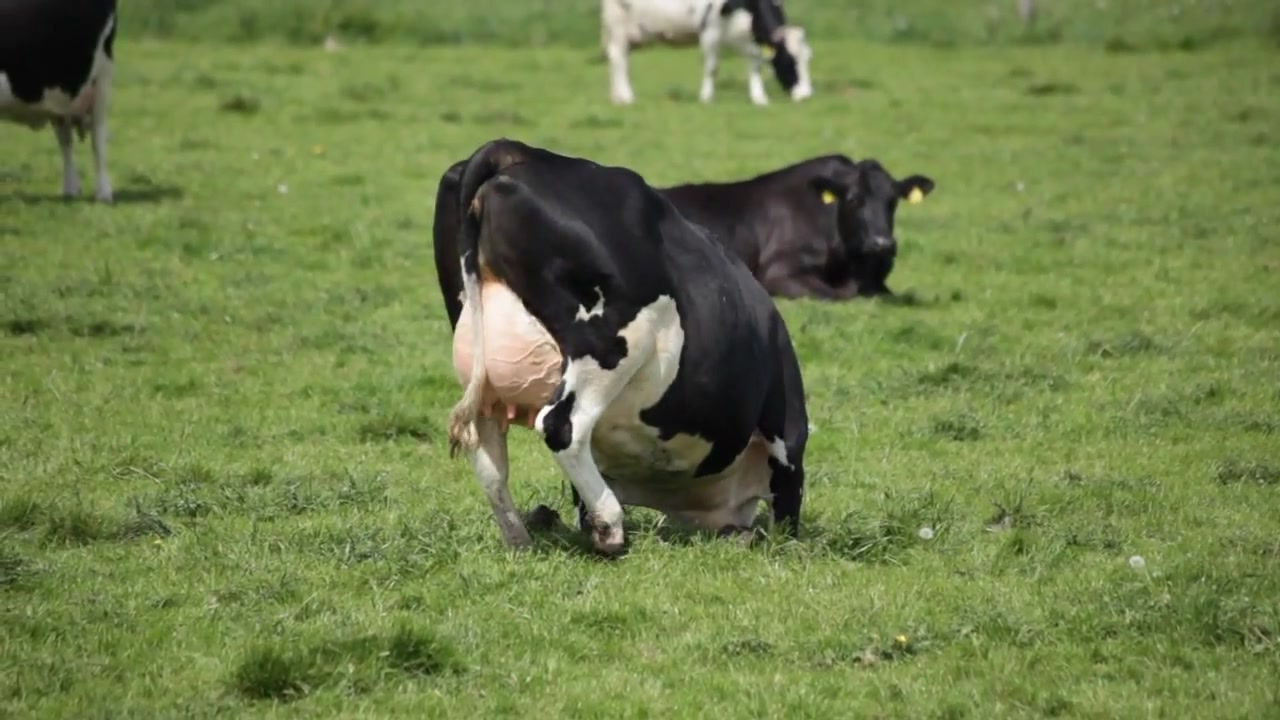cow: (432, 134, 809, 559)
